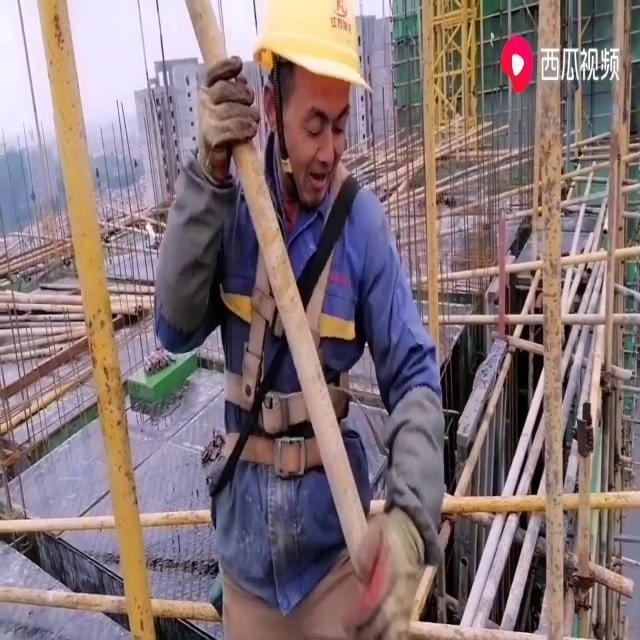Arnes_seguridad: (218, 125, 370, 435)
